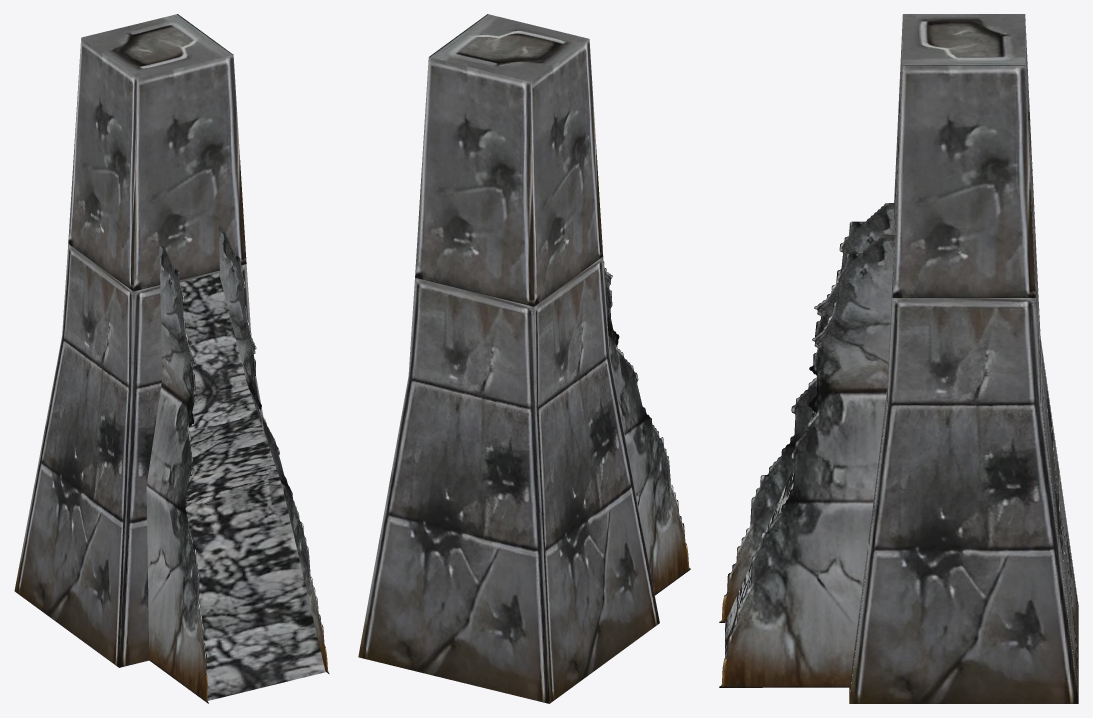
Rendered from s_heavywall_dam_hdtex.glb.
The picture shows the model from 3 angles, left to right: view 1: azimuth 30°, elevation 25°; view 2: azimuth 150°, elevation 25°; view 3: azimuth 270°, elevation 25°; orthographic projection. The views are drawn at different scales.
Visible parts, largest first — view 1: S_HeavyWallDAM; view 2: S_HeavyWallDAM; view 3: S_HeavyWallDAM.
Boxes of the visible parts, <box> form: S_HeavyWallDAM: <box>14,14,329,703</box>; S_HeavyWallDAM: <box>358,14,690,703</box>; S_HeavyWallDAM: <box>719,14,1078,703</box>.
Size of the model in its own units: 6 by 17.76 by 9.4.
Materials: 1 (1 with a texture image).
